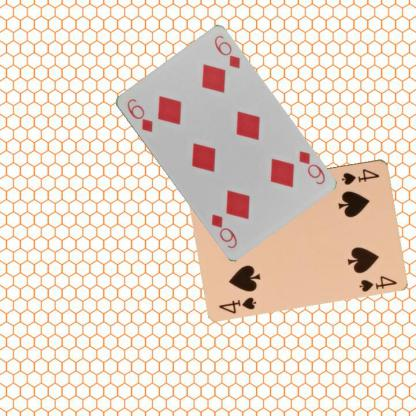4s: (216, 294, 258, 315), (339, 166, 381, 186)
6d: (124, 96, 154, 134), (296, 148, 326, 186)
